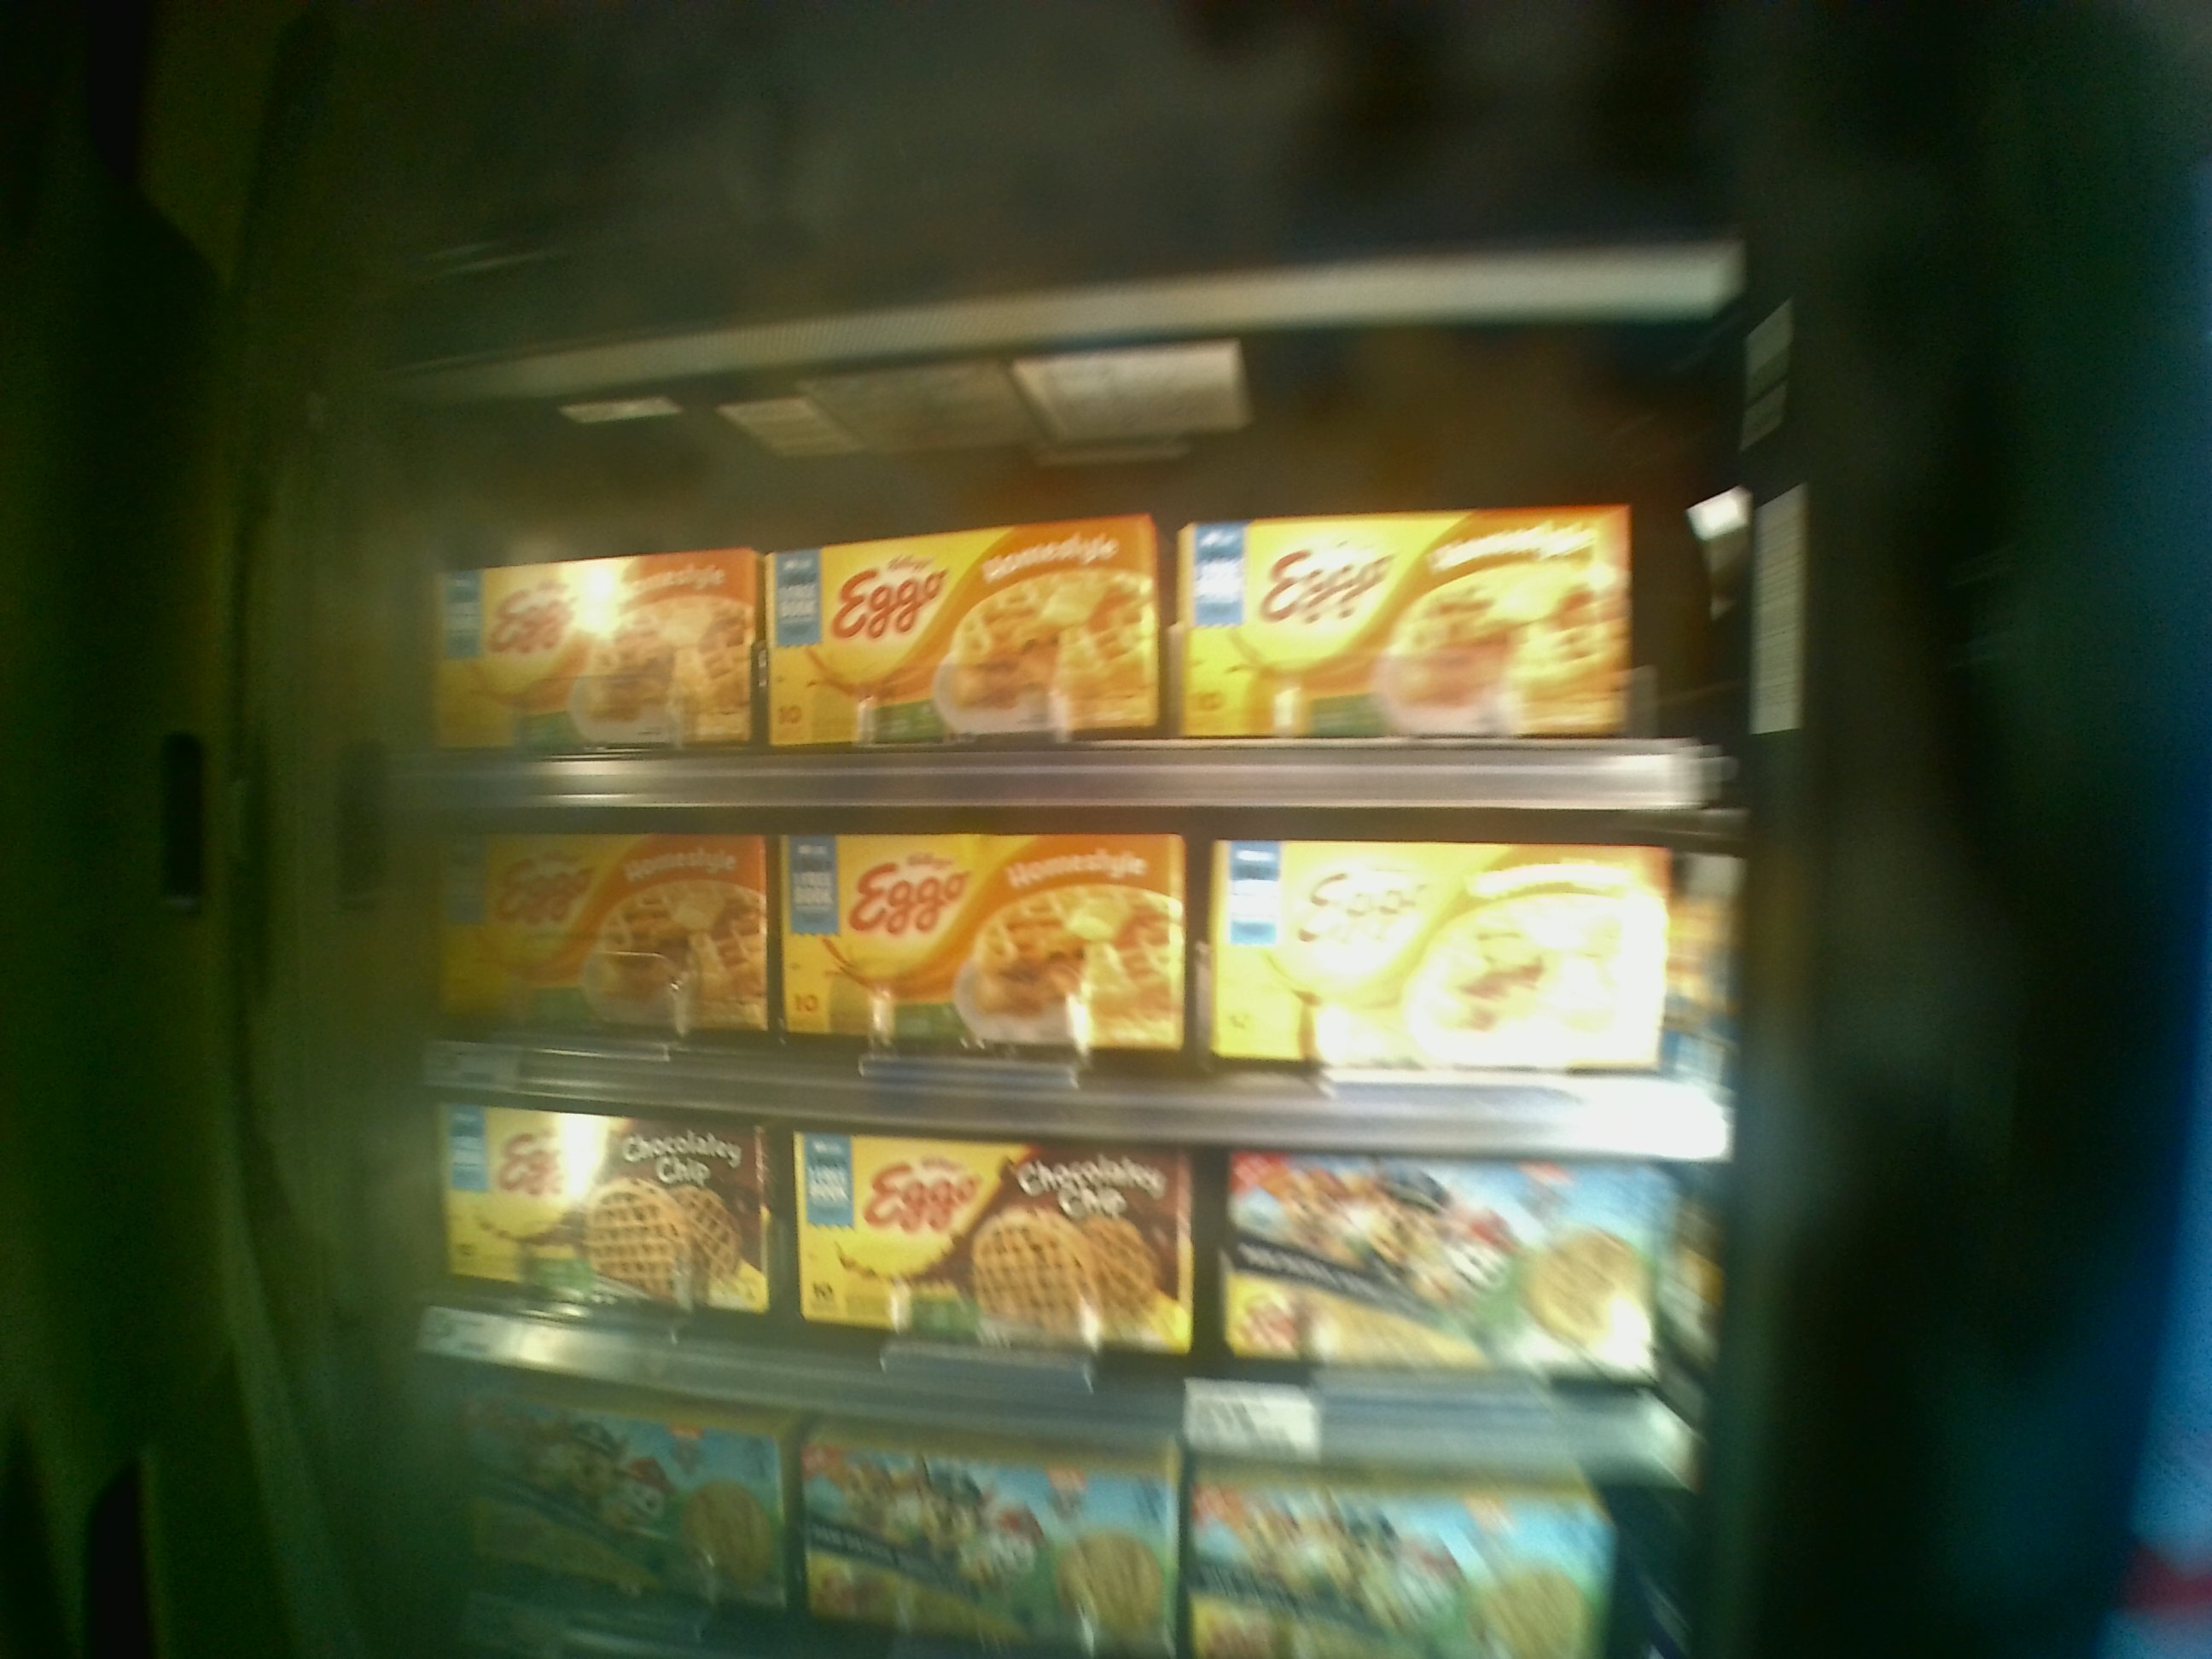shelf: (383, 819, 1737, 1159), (394, 488, 1702, 814)
